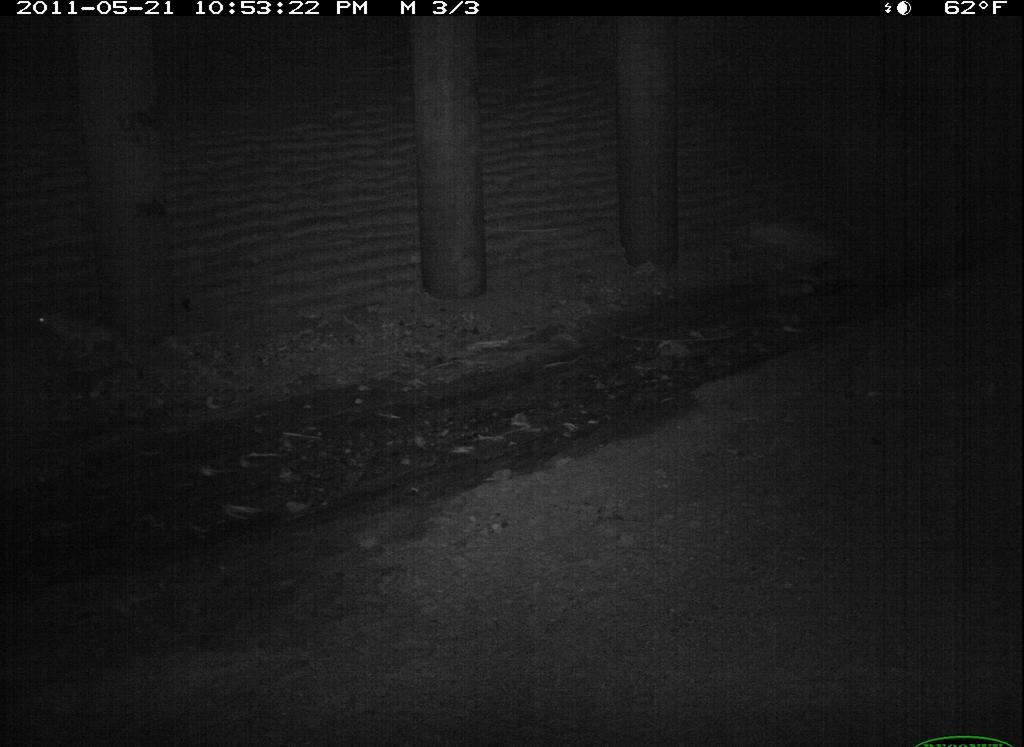bobcat: (55, 601, 259, 747)
